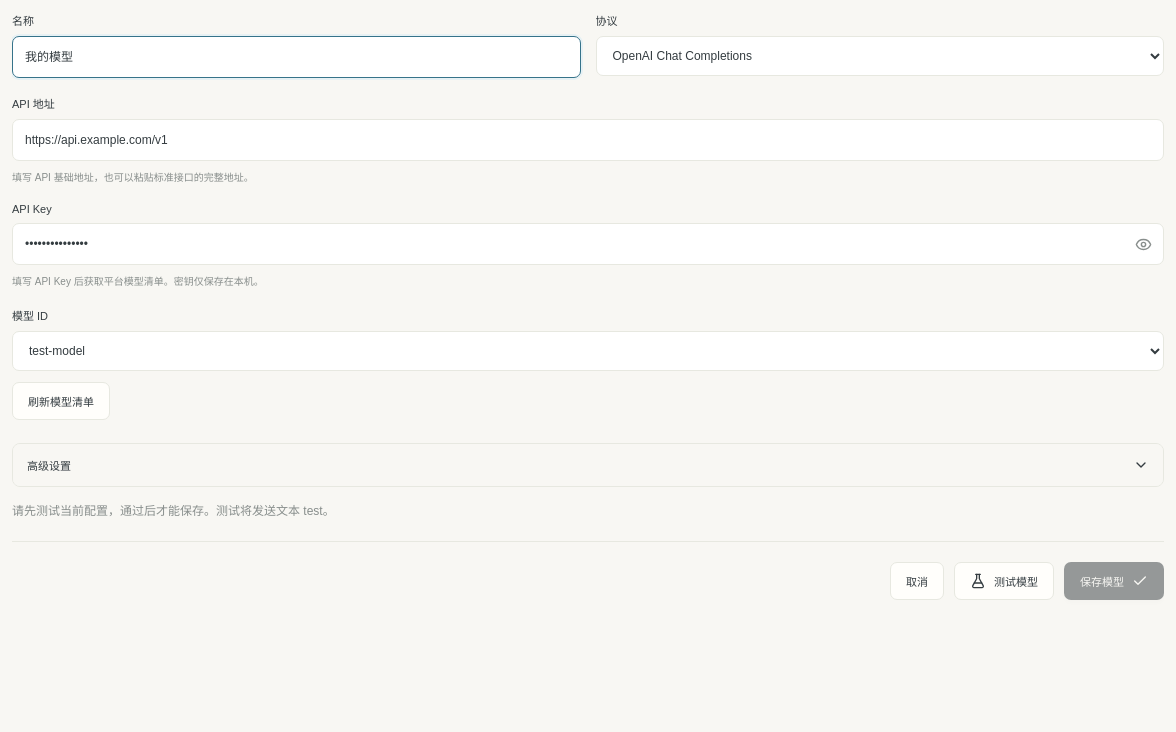
Test: model test gating and indicators › ignores an old response after editing during the request and does not double-send
The image size is (1176, 732).
Click the button "测试模型" at [1004, 581], box 954,562 -> 1054,600
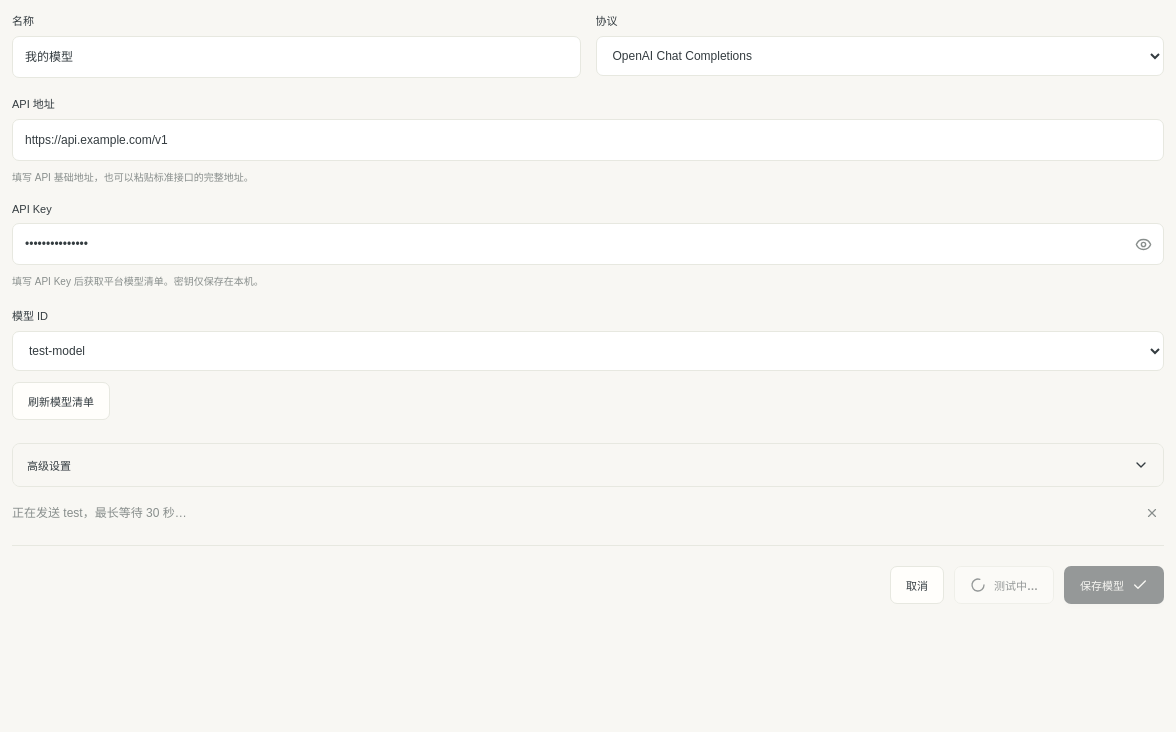
Expected: the button "保存模型" is disabled, 1064,566 -> 1164,604
Expected: the button "测试中…" is disabled, 954,566 -> 1054,604
Select "test-model-new" in the dropdown labelled "模型 ID" at [588, 351], box 12,331 -> 1164,371
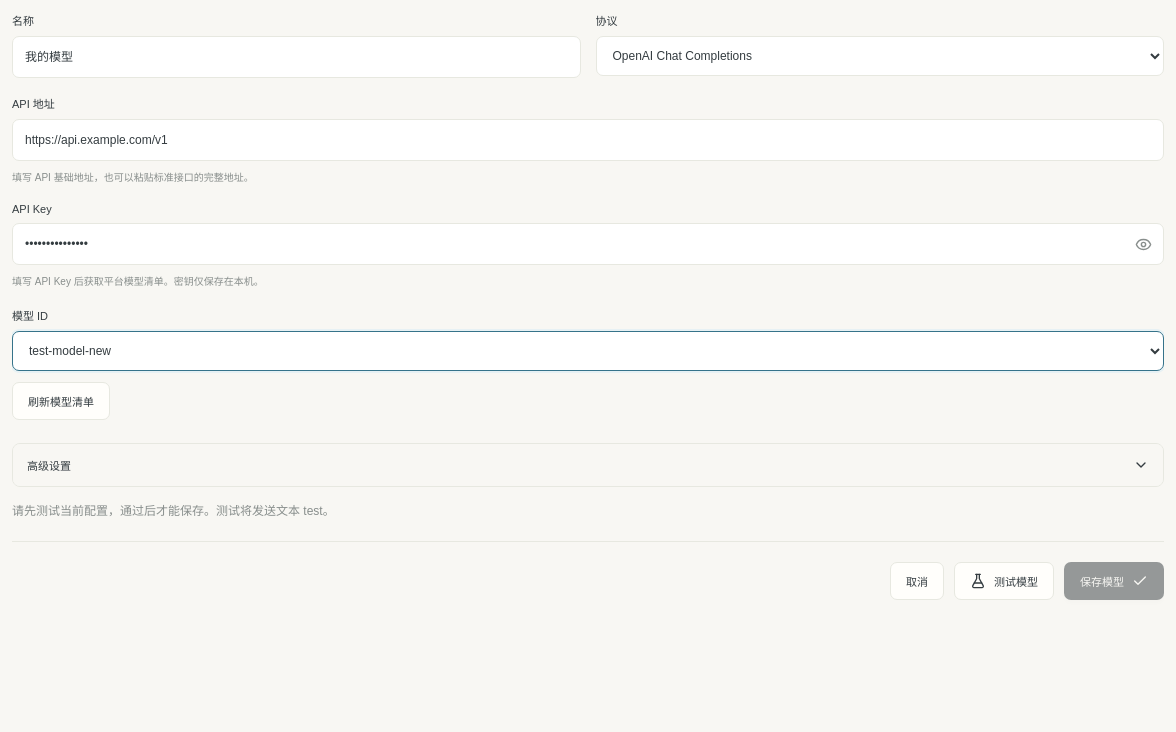
Expected: the button "保存模型" is disabled, 1064,562 -> 1164,600
Expected: the text "测试通过，耗时" is not shown
Click the button "测试模型" at [1004, 581], box 954,562 -> 1054,600
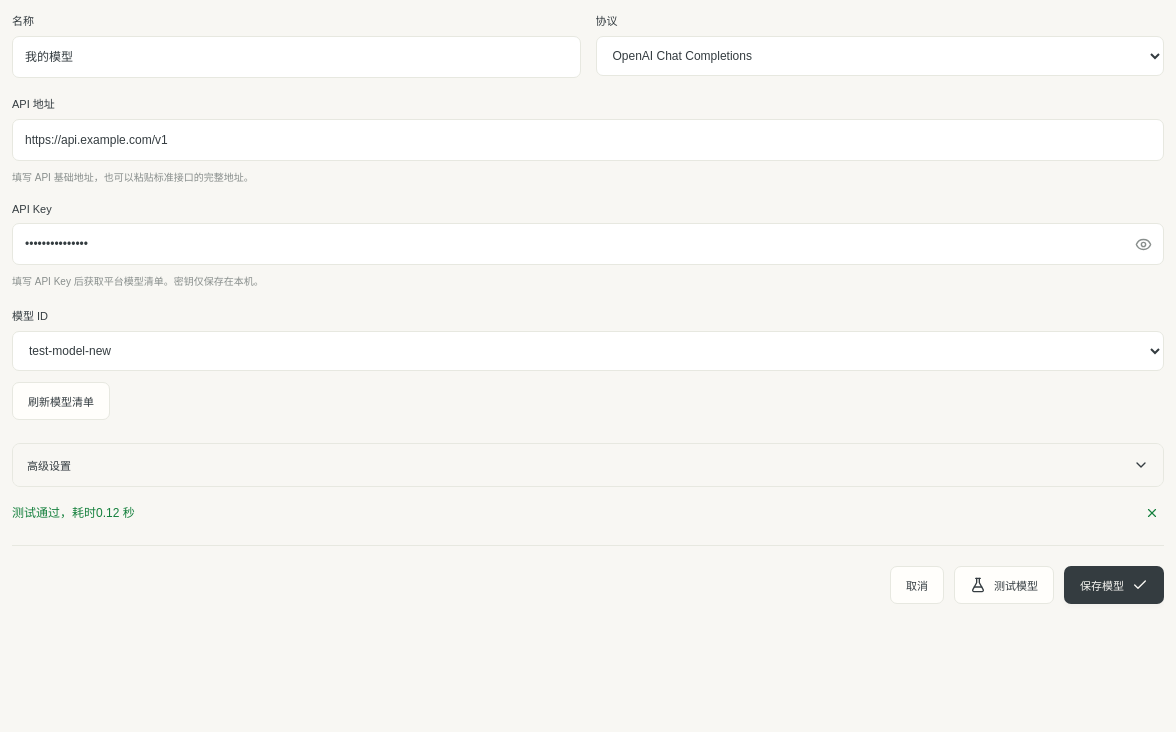
Expected: the button "保存模型" is enabled, 1064,566 -> 1164,604
